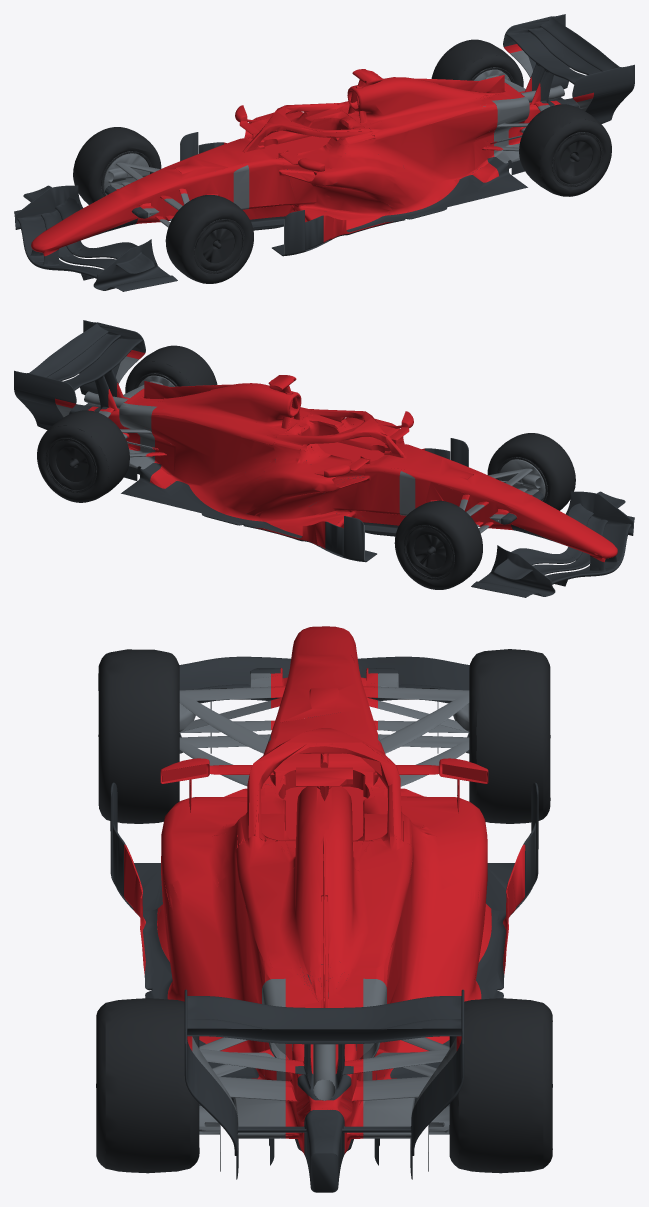
File: formula-race.glb
3 renders of one model, top to bottom at view 1: azimuth 30°, elevation 25°; view 2: azimuth 150°, elevation 25°; view 3: azimuth 270°, elevation 25°, orthographic. The views are drawn at different scales.
Parts seen in each view (by area): view 1: left-sidepod, chassis, front-wing, rear-wing, engine-cover, rear-left-wheel, front-left-wheel, floor, front-right-wheel, halo, rear-right-wheel, rear-suspension (+3 smaller); view 2: right-sidepod, chassis, front-wing, rear-wing, engine-cover, rear-right-wheel, front-right-wheel, floor, front-left-wheel, halo, rear-left-wheel, rear-suspension (+3 smaller); view 3: engine-cover, chassis, rear-wing, left-sidepod, right-sidepod, rear-right-wheel, rear-left-wheel, front-left-wheel, front-right-wheel, rear-suspension, front-suspension, floor (+4 smaller).
Boxes of the visible parts, bbox=[...] form: left-sidepod: bbox=[281, 106, 503, 242]; chassis: bbox=[31, 77, 560, 256]; front-wing: bbox=[14, 185, 177, 291]; rear-wing: bbox=[503, 14, 634, 123]; engine-cover: bbox=[336, 44, 593, 139]; rear-left-wheel: bbox=[519, 104, 611, 196]; front-left-wheel: bbox=[165, 195, 253, 283]; floor: bbox=[180, 131, 527, 256]; front-right-wheel: bbox=[73, 127, 161, 204]; halo: bbox=[245, 103, 375, 148]; rear-right-wheel: bbox=[431, 39, 523, 87]; rear-suspension: bbox=[472, 50, 592, 166]; right-sidepod: bbox=[145, 412, 367, 548]; chassis: bbox=[88, 383, 617, 562]; front-wing: bbox=[471, 491, 634, 597]; rear-wing: bbox=[14, 320, 145, 429]; engine-cover: bbox=[55, 350, 313, 445]; rear-right-wheel: bbox=[37, 410, 129, 502]; front-right-wheel: bbox=[394, 500, 482, 589]; floor: bbox=[121, 437, 468, 562]; front-left-wheel: bbox=[487, 433, 575, 510]; halo: bbox=[274, 409, 403, 454]; rear-left-wheel: bbox=[125, 345, 217, 393]; rear-suspension: bbox=[56, 356, 176, 472]; engine-cover: bbox=[187, 767, 461, 1050]; chassis: bbox=[234, 626, 414, 1154]; rear-wing: bbox=[184, 989, 464, 1192]; left-sidepod: bbox=[124, 765, 264, 1079]; right-sidepod: bbox=[384, 765, 525, 1079]; rear-right-wheel: bbox=[449, 998, 552, 1173]; rear-left-wheel: bbox=[96, 998, 199, 1173]; front-left-wheel: bbox=[98, 649, 179, 823]; front-right-wheel: bbox=[469, 649, 550, 823]; rear-suspension: bbox=[192, 978, 456, 1151]; front-suspension: bbox=[179, 673, 469, 786]; floor: bbox=[110, 782, 538, 1179].
Bounding box in the file's own units: 5394 × 1101 × 1882.
